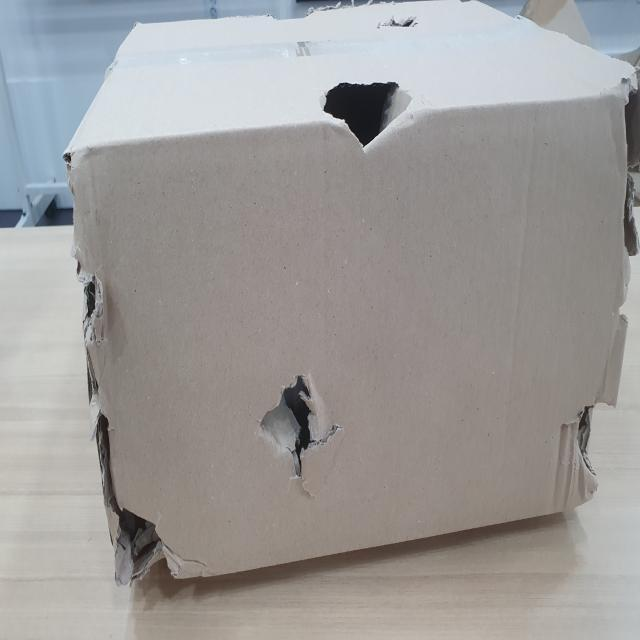hole: (81, 263, 177, 588), (550, 392, 630, 508), (258, 361, 342, 471), (317, 81, 419, 162), (606, 78, 640, 256)
